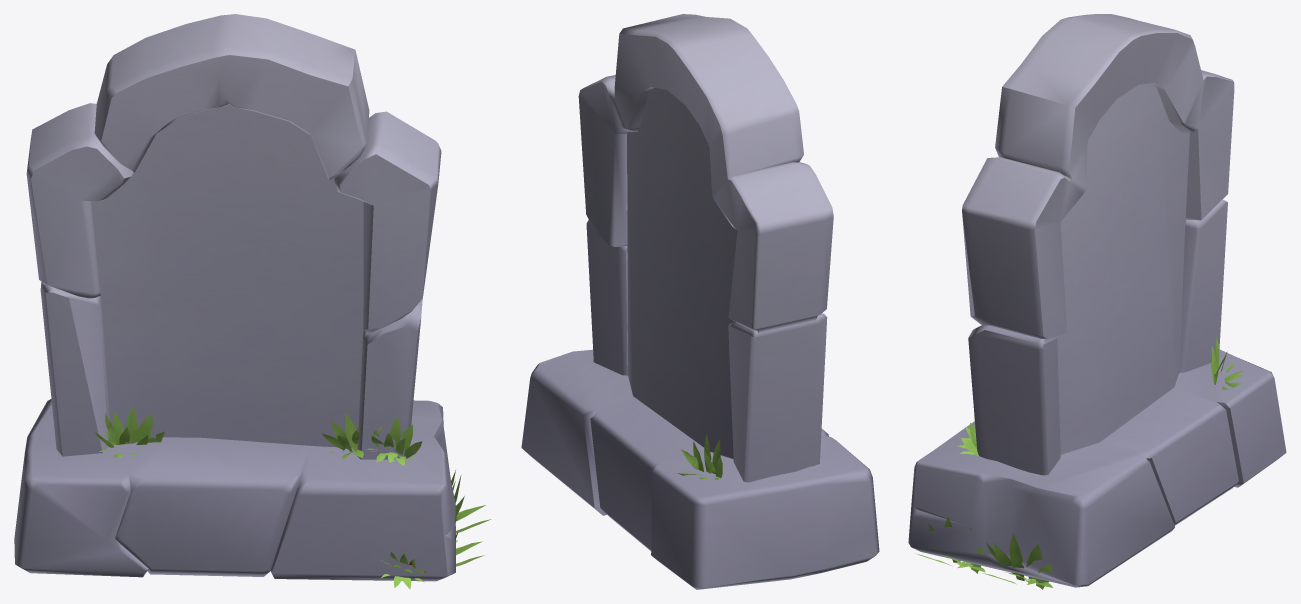
File: tombstone_03.glb
3 renders of one model, left to right at view 1: azimuth 30°, elevation 25°; view 2: azimuth 150°, elevation 25°; view 3: azimuth 270°, elevation 25°, orthographic. The views are drawn at different scales.
Parts seen in each view (by area): view 1: WBA_Gravestone_Set_03; view 2: WBA_Gravestone_Set_03; view 3: WBA_Gravestone_Set_03.
Boxes of the visible parts, bbox=[...] form: WBA_Gravestone_Set_03: bbox=[14, 14, 491, 589]; WBA_Gravestone_Set_03: bbox=[521, 14, 879, 589]; WBA_Gravestone_Set_03: bbox=[908, 14, 1286, 589].
Size of the model in its own units: 0.4716 by 0.5786 by 0.4077.
Materials: 1 (1 with a texture image).
